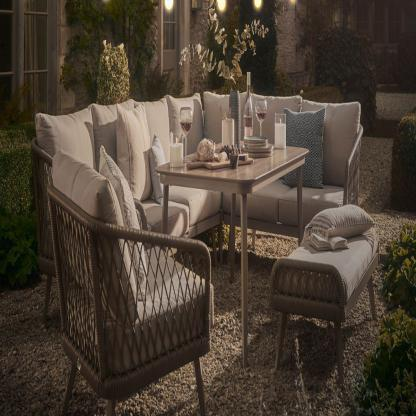table: (152, 130, 312, 374)
